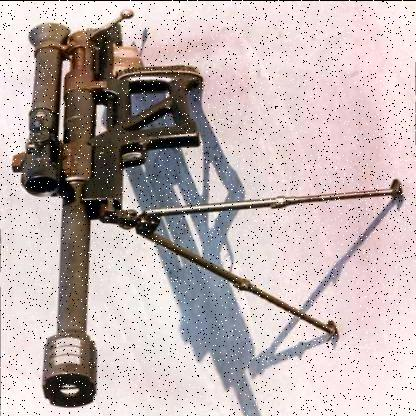rifle: (14, 9, 209, 408)
